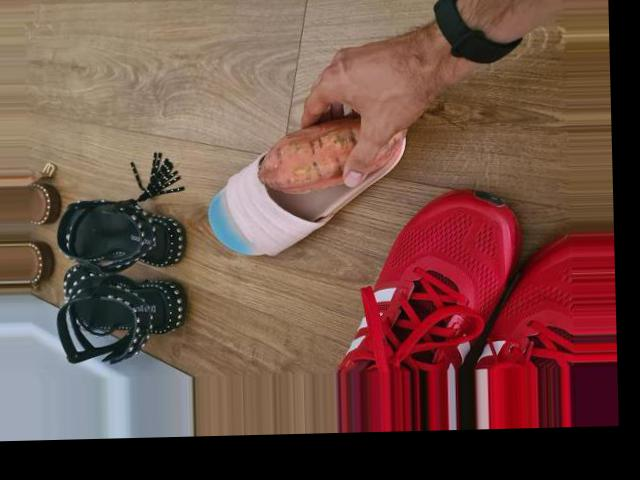sweet_potato: (255, 115, 410, 193)
